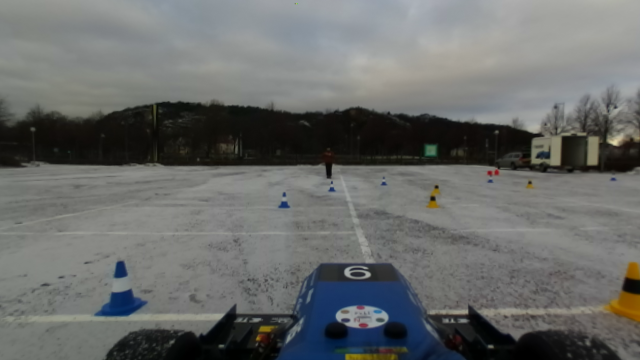blue: (93, 256, 148, 318)
yellow: (608, 259, 640, 321)
